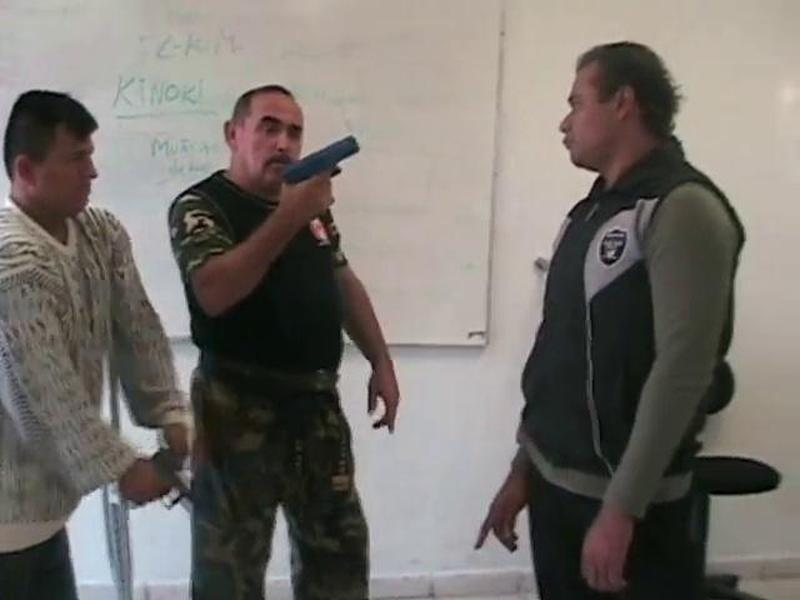Pistola: (272, 122, 367, 224)
